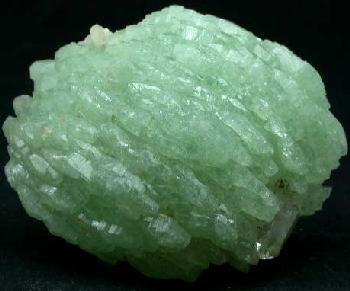prehnite: (2, 6, 348, 284)
